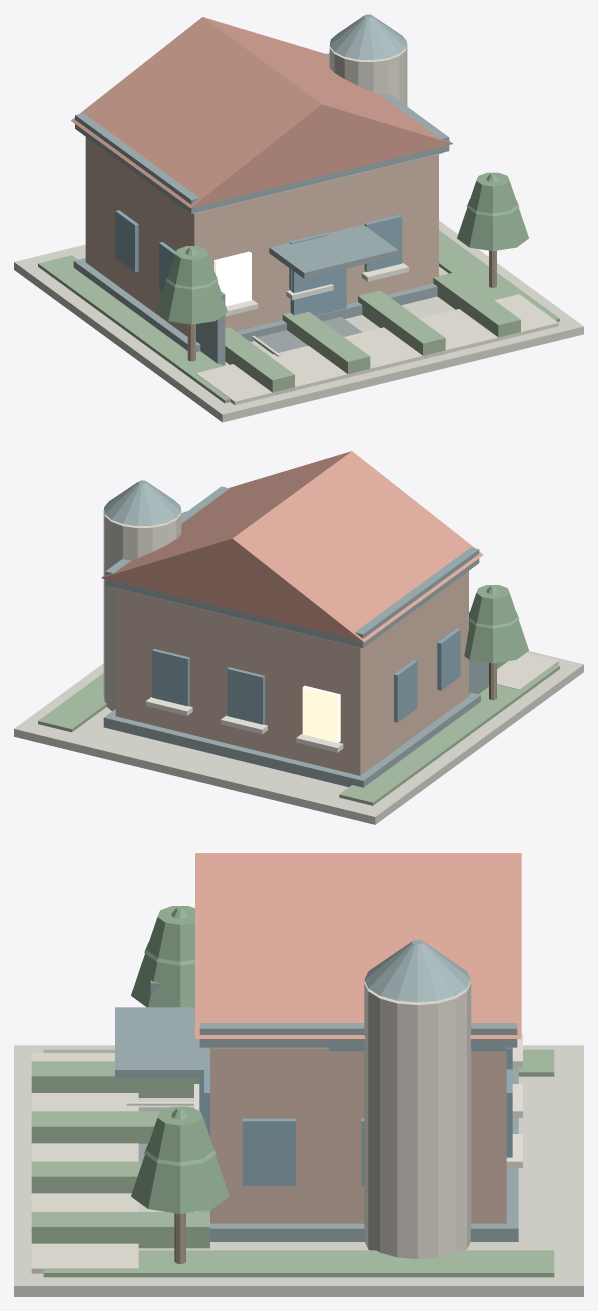
The model's file is remaster_industry_farm_1.glb.
3 renders of one model, top to bottom at view 1: azimuth 30°, elevation 25°; view 2: azimuth 150°, elevation 25°; view 3: azimuth 270°, elevation 25°, orthographic. The views are drawn at different scales.
Parts seen in each view (by area): view 1: remaster_industry_farm_1 red, remaster_industry_farm_1 brick, remaster_industry_farm_1 green, remaster_industry_farm_1 roof, remaster_industry_farm_1 stone, remaster_industry_farm_1 cream, remaster_industry_farm_1 leaf, remaster_industry_farm_1 glass, remaster_industry_farm_1 warm, remaster_industry_farm_1 white, remaster_industry_farm_1 asphalt, remaster_industry_farm_1 bark; view 2: remaster_industry_farm_1 red, remaster_industry_farm_1 brick, remaster_industry_farm_1 stone, remaster_industry_farm_1 roof, remaster_industry_farm_1 green, remaster_industry_farm_1 glass, remaster_industry_farm_1 cream, remaster_industry_farm_1 leaf, remaster_industry_farm_1 warm, remaster_industry_farm_1 white; view 3: remaster_industry_farm_1 red, remaster_industry_farm_1 cream, remaster_industry_farm_1 stone, remaster_industry_farm_1 green, remaster_industry_farm_1 brick, remaster_industry_farm_1 roof, remaster_industry_farm_1 leaf, remaster_industry_farm_1 glass, remaster_industry_farm_1 white, remaster_industry_farm_1 bark.
Part boxes in pixels (x1,y1,x2,y2): remaster_industry_farm_1 red: [71, 17, 453, 207]; remaster_industry_farm_1 brick: [85, 137, 438, 336]; remaster_industry_farm_1 green: [38, 230, 559, 403]; remaster_industry_farm_1 roof: [73, 14, 449, 365]; remaster_industry_farm_1 stone: [14, 152, 583, 422]; remaster_industry_farm_1 cream: [195, 44, 558, 405]; remaster_industry_farm_1 leaf: [156, 172, 528, 324]; remaster_industry_farm_1 glass: [115, 210, 402, 315]; remaster_industry_farm_1 warm: [214, 251, 251, 306]; remaster_industry_farm_1 white: [225, 263, 408, 356]; remaster_industry_farm_1 asphalt: [255, 317, 362, 354]; remaster_industry_farm_1 bark: [187, 250, 496, 361]; remaster_industry_farm_1 red: [101, 451, 483, 642]; remaster_industry_farm_1 brick: [115, 571, 468, 775]; remaster_industry_farm_1 stone: [14, 587, 583, 824]; remaster_industry_farm_1 roof: [103, 480, 488, 787]; remaster_industry_farm_1 green: [38, 661, 559, 805]; remaster_industry_farm_1 glass: [152, 628, 460, 724]; remaster_industry_farm_1 cream: [103, 510, 558, 710]; remaster_industry_farm_1 leaf: [181, 511, 528, 663]; remaster_industry_farm_1 warm: [302, 685, 340, 742]; remaster_industry_farm_1 white: [145, 697, 343, 752]; remaster_industry_farm_1 red: [195, 853, 521, 1038]; remaster_industry_farm_1 cream: [31, 981, 471, 1273]; remaster_industry_farm_1 stone: [14, 1045, 583, 1296]; remaster_industry_farm_1 green: [31, 1049, 554, 1277]; remaster_industry_farm_1 brick: [210, 1048, 506, 1223]; remaster_industry_farm_1 roof: [115, 939, 518, 1241]; remaster_industry_farm_1 leaf: [131, 906, 229, 1213]; remaster_industry_farm_1 glass: [199, 1047, 512, 1185]; remaster_industry_farm_1 white: [126, 1033, 522, 1167]; remaster_industry_farm_1 bark: [174, 1213, 185, 1263].
Size of the model in its own units: 9.64 by 5.82 by 9.6.
